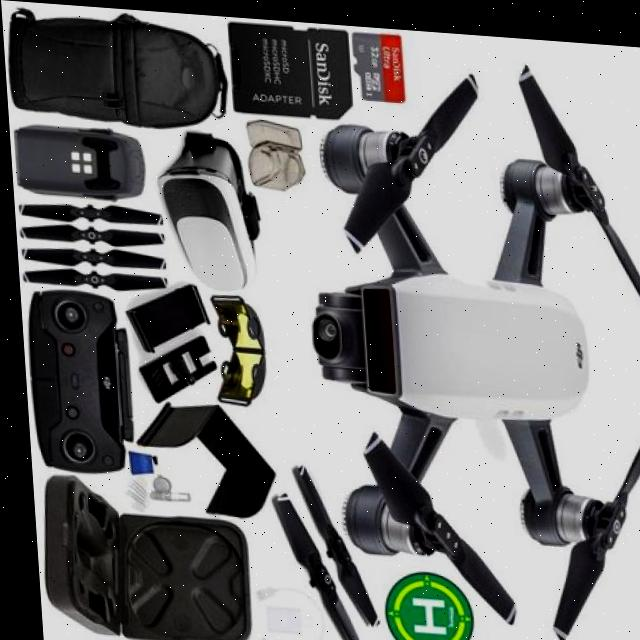drone: (294, 39, 640, 631)
